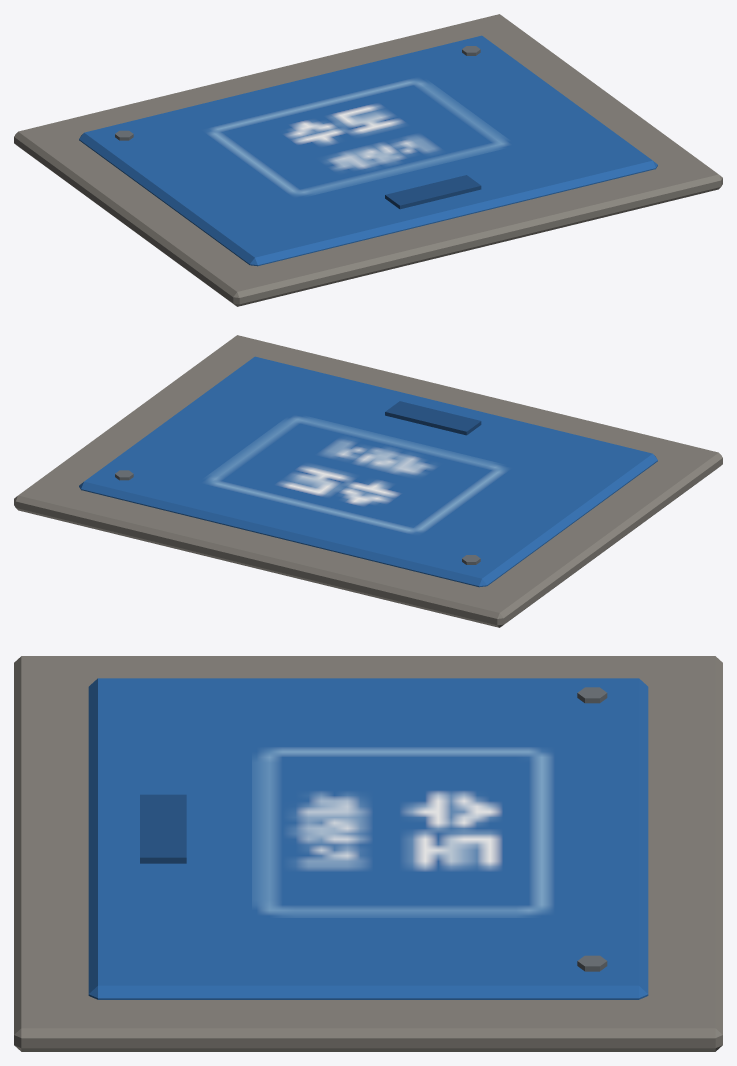
The model's file is SC_Util_Water_Meter_Cover.gltf.
The picture shows the model from 3 angles, top to bottom: view 1: azimuth 30°, elevation 25°; view 2: azimuth 150°, elevation 25°; view 3: azimuth 270°, elevation 25°; orthographic projection. The views are drawn at different scales.
Visible parts, largest first — view 1: SC_Util_Water_Meter_Cover; view 2: SC_Util_Water_Meter_Cover; view 3: SC_Util_Water_Meter_Cover.
Part boxes in pixels (bbox=[...]): SC_Util_Water_Meter_Cover: bbox=[14, 14, 722, 306]; SC_Util_Water_Meter_Cover: bbox=[14, 335, 722, 627]; SC_Util_Water_Meter_Cover: bbox=[14, 656, 722, 1051].
Size of the model in its own units: 0.48 by 0.0235 by 0.38.
Materials: 2 (2 with a texture image).
